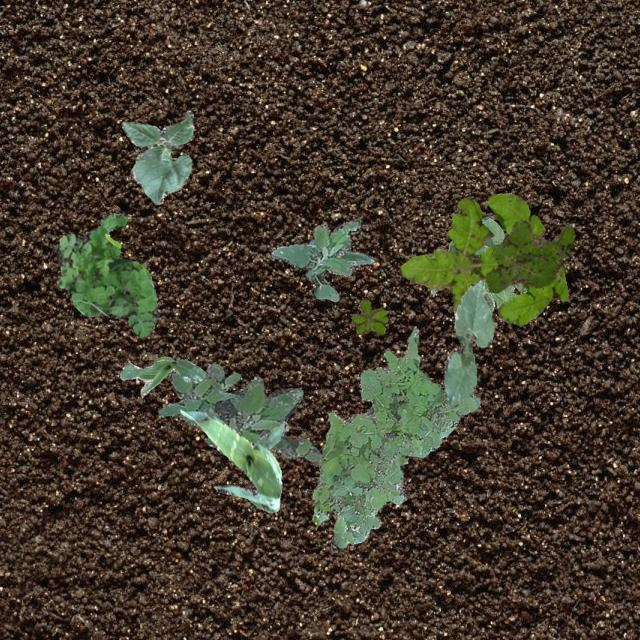crop: (180, 408, 286, 512), (429, 216, 526, 312), (331, 452, 406, 546), (120, 110, 192, 204), (444, 278, 494, 408), (118, 356, 205, 394)
weed: (312, 326, 478, 542), (400, 192, 568, 326), (156, 362, 320, 466), (55, 212, 158, 336), (270, 218, 372, 300), (484, 220, 572, 292), (349, 298, 386, 334)
